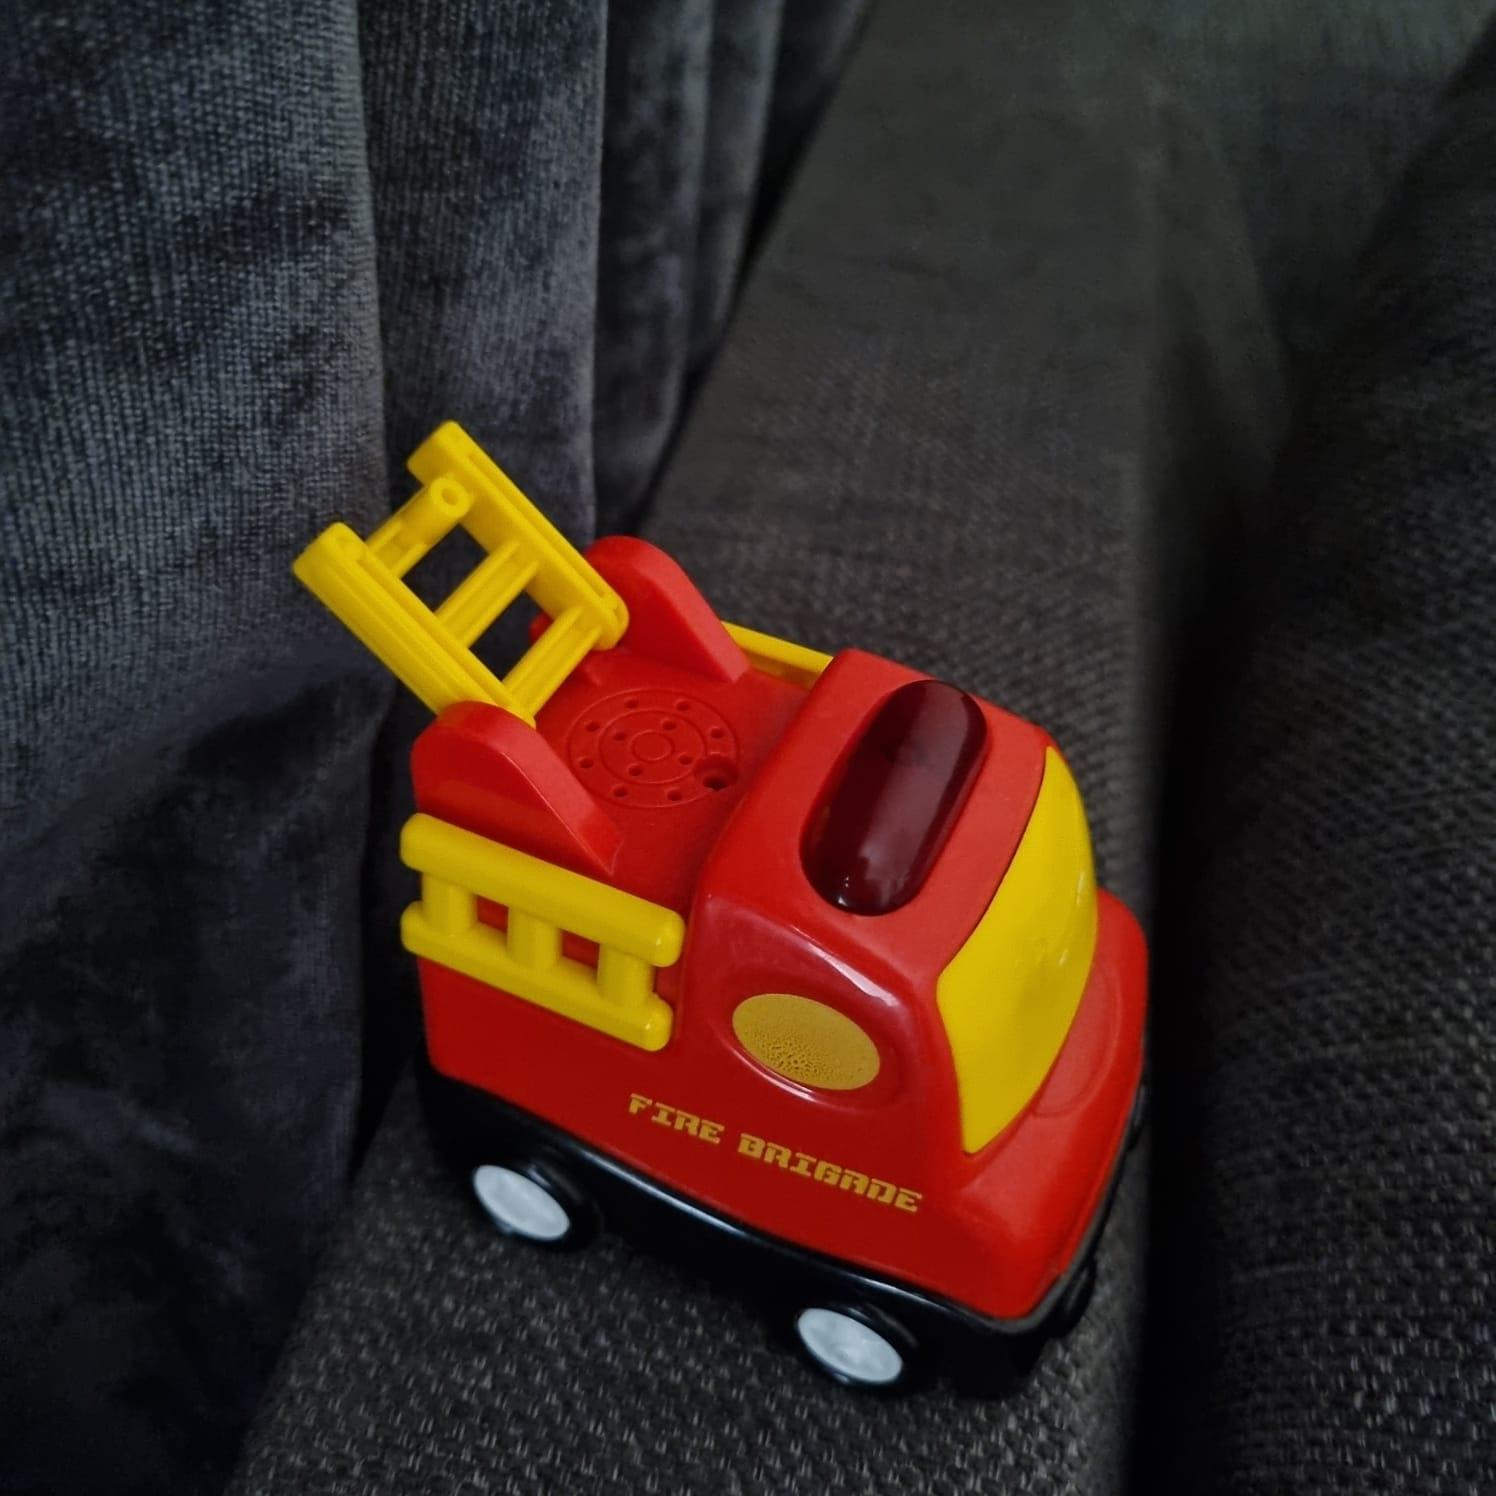firetruck_off: (295, 427, 1152, 1386)
